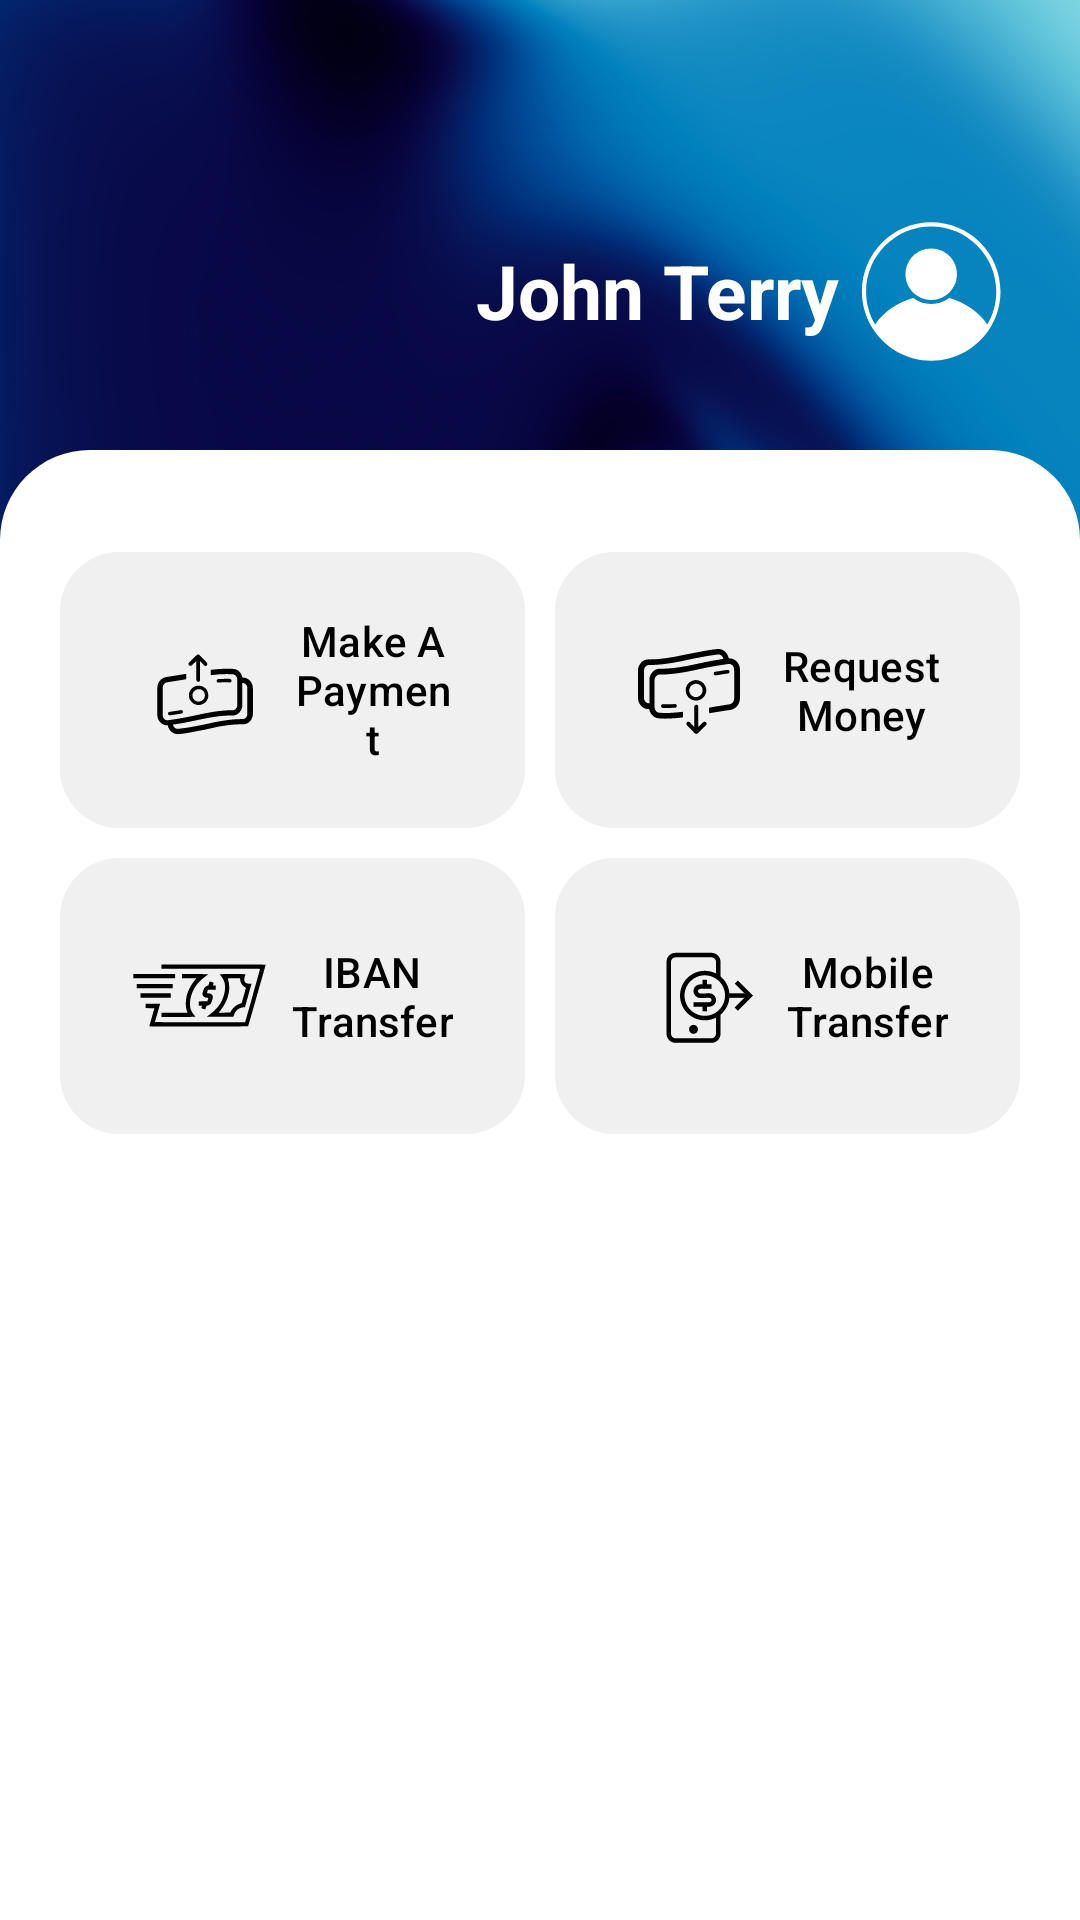

Where to tap for icons on this 1080w x 1920h app screen, as (x,y):
profile picture round: (931,291)
